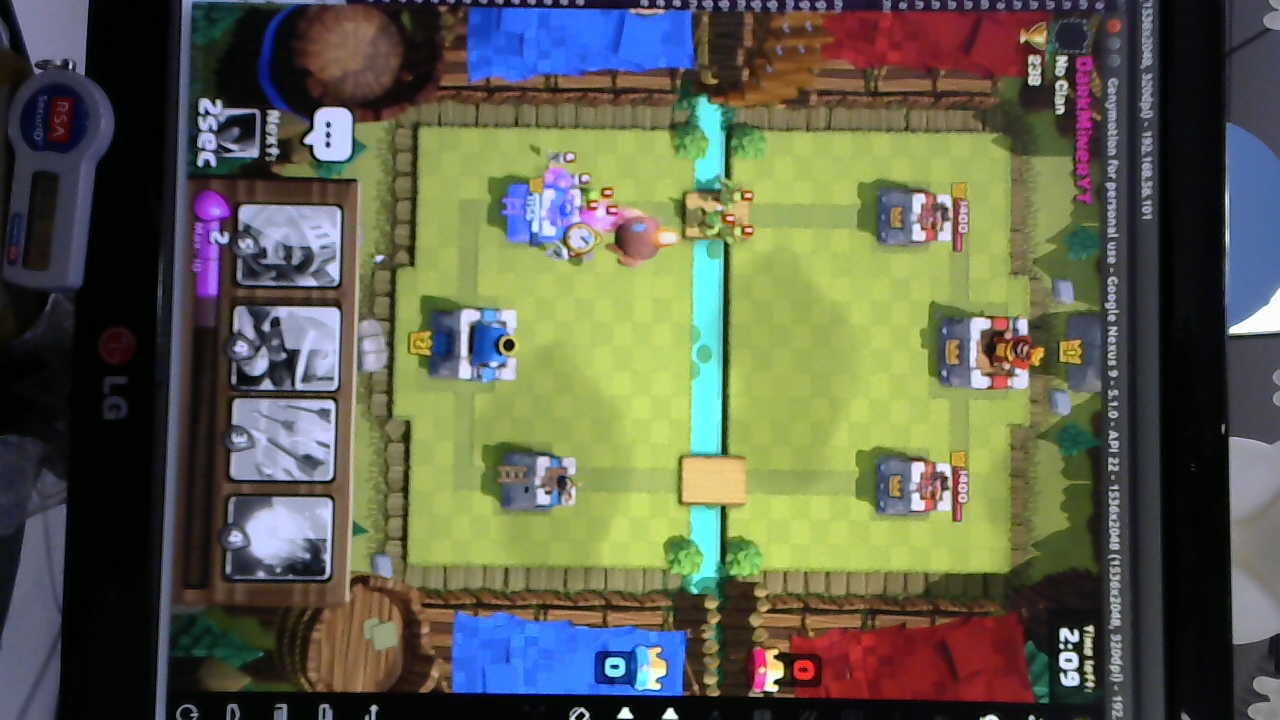arena: (499, 181, 585, 249), (501, 447, 581, 511)
earena: (871, 183, 953, 247), (871, 456, 946, 525)
eking: (932, 313, 1035, 393)
giant: (610, 203, 677, 272)
goblin: (579, 172, 614, 219)
king: (427, 302, 524, 383)
speargoblins: (692, 180, 760, 245)
